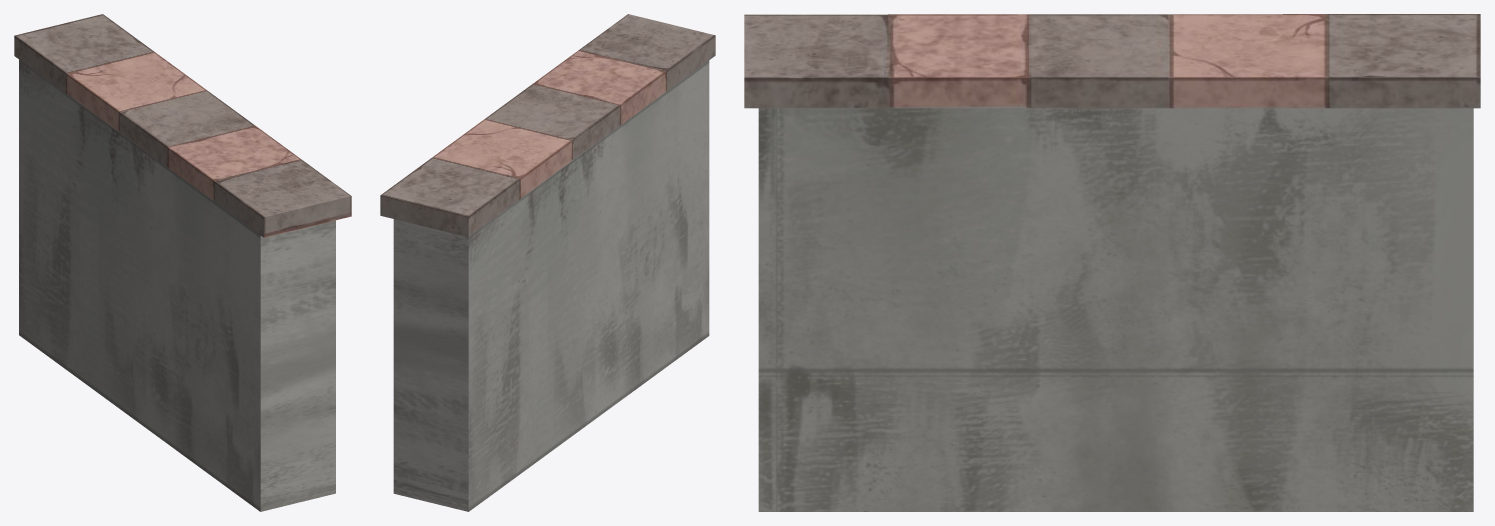
Rendered from wall_09.fbx.
3 views of the same model, side by side, from view 1: azimuth 30°, elevation 25°; view 2: azimuth 150°, elevation 25°; view 3: azimuth 270°, elevation 25° (orthographic). The views are drawn at different scales.
Visible parts, largest first — view 1: Object086; view 2: Object086; view 3: Object086.
Boxes of the visible parts, x1,y1,x2,y2 form: Object086: [14, 14, 351, 511]; Object086: [380, 14, 715, 511]; Object086: [744, 14, 1480, 511].
Bounding box in the file's own units: 88.1 × 284 × 429.
